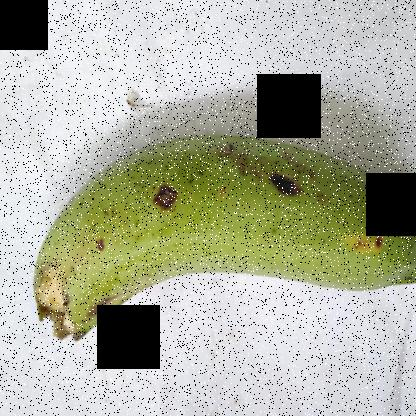unripe: (24, 116, 415, 340)
